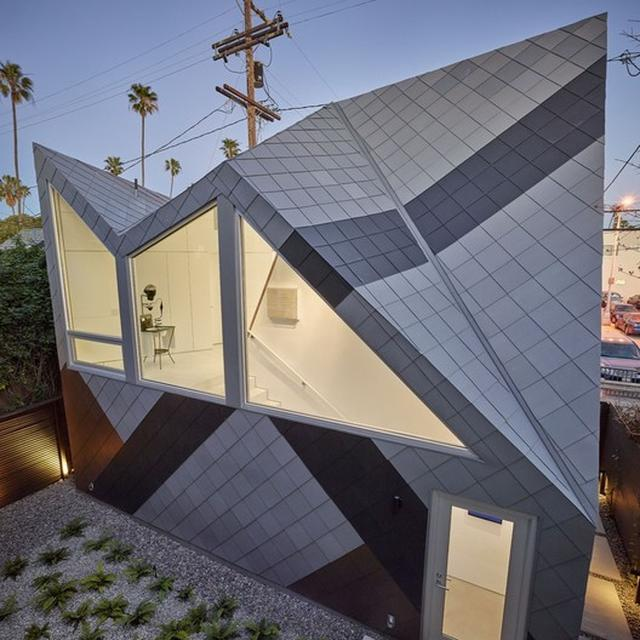building: (28, 11, 608, 640)
